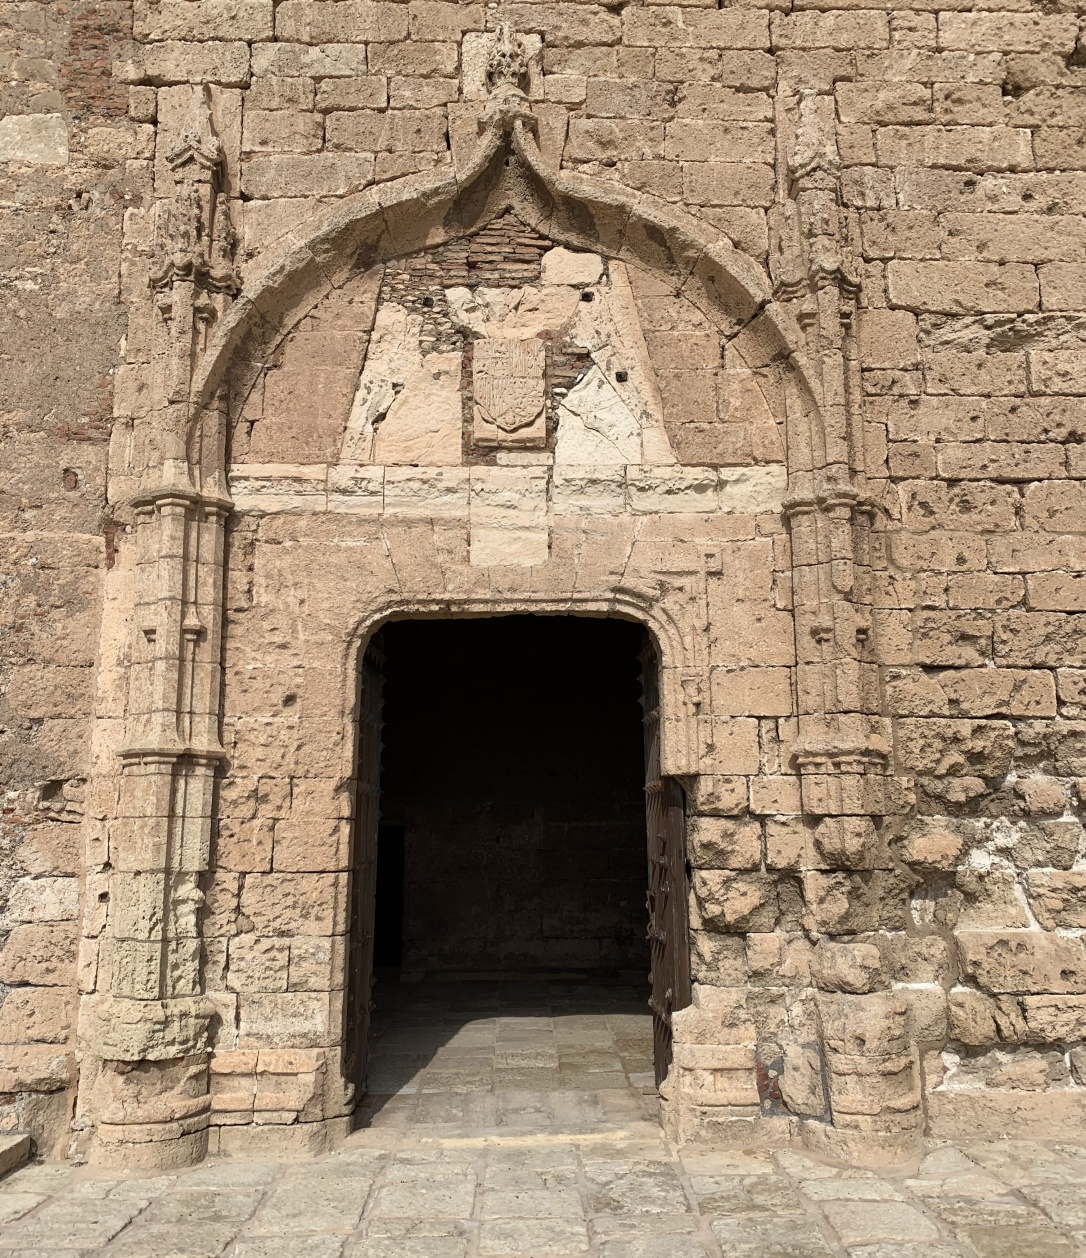arco-conopial: (220, 102, 804, 327)
